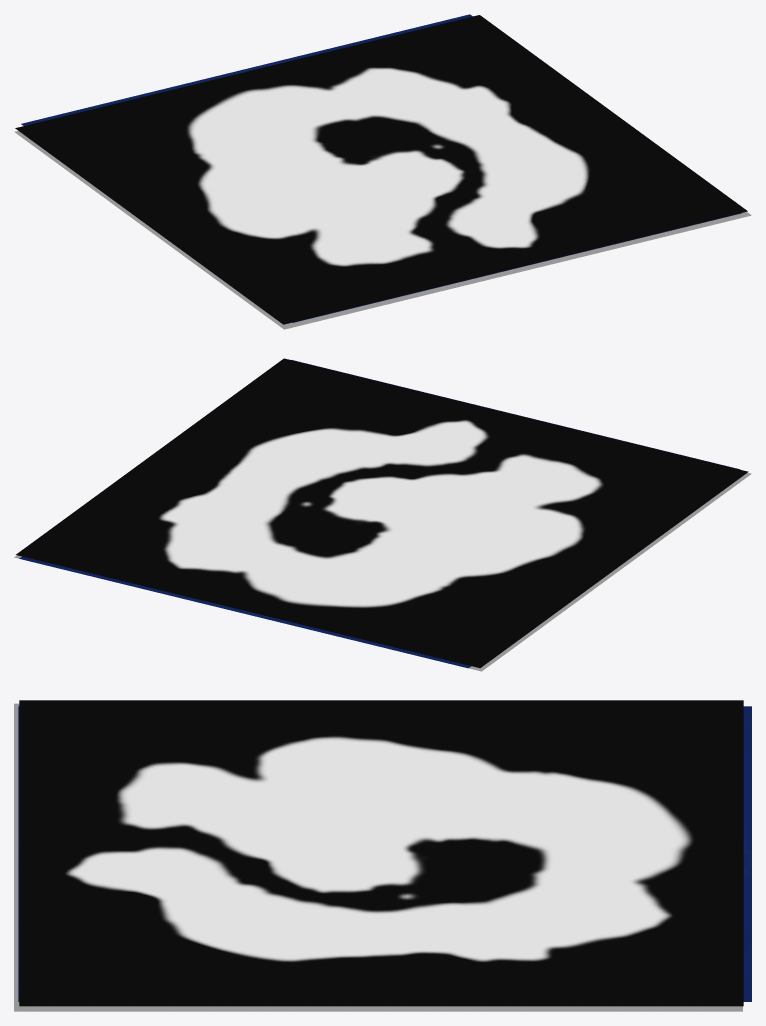
The model's file is pir_m_are_isl_pearl_ocean.fbx.
3 renders of one model, top to bottom at view 1: azimuth 30°, elevation 25°; view 2: azimuth 150°, elevation 25°; view 3: azimuth 270°, elevation 25°, orthographic. The views are drawn at different scales.
Visible parts, largest first — view 1: water_alpha, sandfloor, water_color; view 2: water_alpha, water_color, sandfloor; view 3: water_alpha, sandfloor, water_color.
Part boxes in pixels (x1=…): water_alpha: x1=15, y1=15, x2=747, y2=324; sandfloor: x1=14, y1=131, x2=751, y2=329; water_color: x1=21, y1=14, x2=741, y2=322; water_alpha: x1=16, y1=358, x2=748, y2=667; water_color: x1=19, y1=360, x2=739, y2=668; sandfloor: x1=14, y1=472, x2=751, y2=671; water_alpha: x1=19, y1=700, x2=743, y2=1006; sandfloor: x1=14, y1=703, x2=742, y2=1011; water_color: x1=18, y1=706, x2=751, y2=1001.
Size of the model in its own units: 1069650 by 6894 by 1083451.
3 materials, 3 textured.
